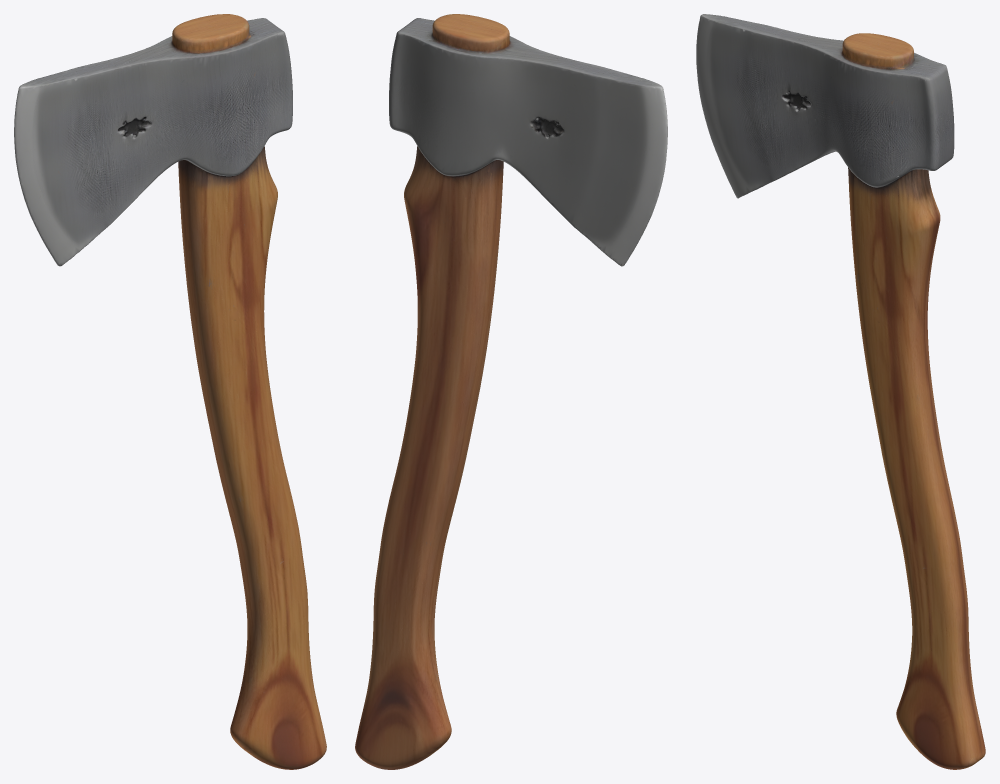
The model's file is Meshy_AI_Axe_0312063951_texture.fbx.
3 renders of one model, left to right at view 1: azimuth 30°, elevation 25°; view 2: azimuth 150°, elevation 25°; view 3: azimuth 330°, elevation 25°, orthographic. The views are drawn at different scales.
Visible parts, largest first — view 1: Mesh_0; view 2: Mesh_0; view 3: Mesh_0.
Boxes of the visible parts, x1,y1,x2,y2 form: Mesh_0: (14,14,326,769); Mesh_0: (355,14,667,769); Mesh_0: (696,14,985,769).
Size of the model in its own units: 85.04 by 200 by 16.01.
Materials: 1 (1 with a texture image).
